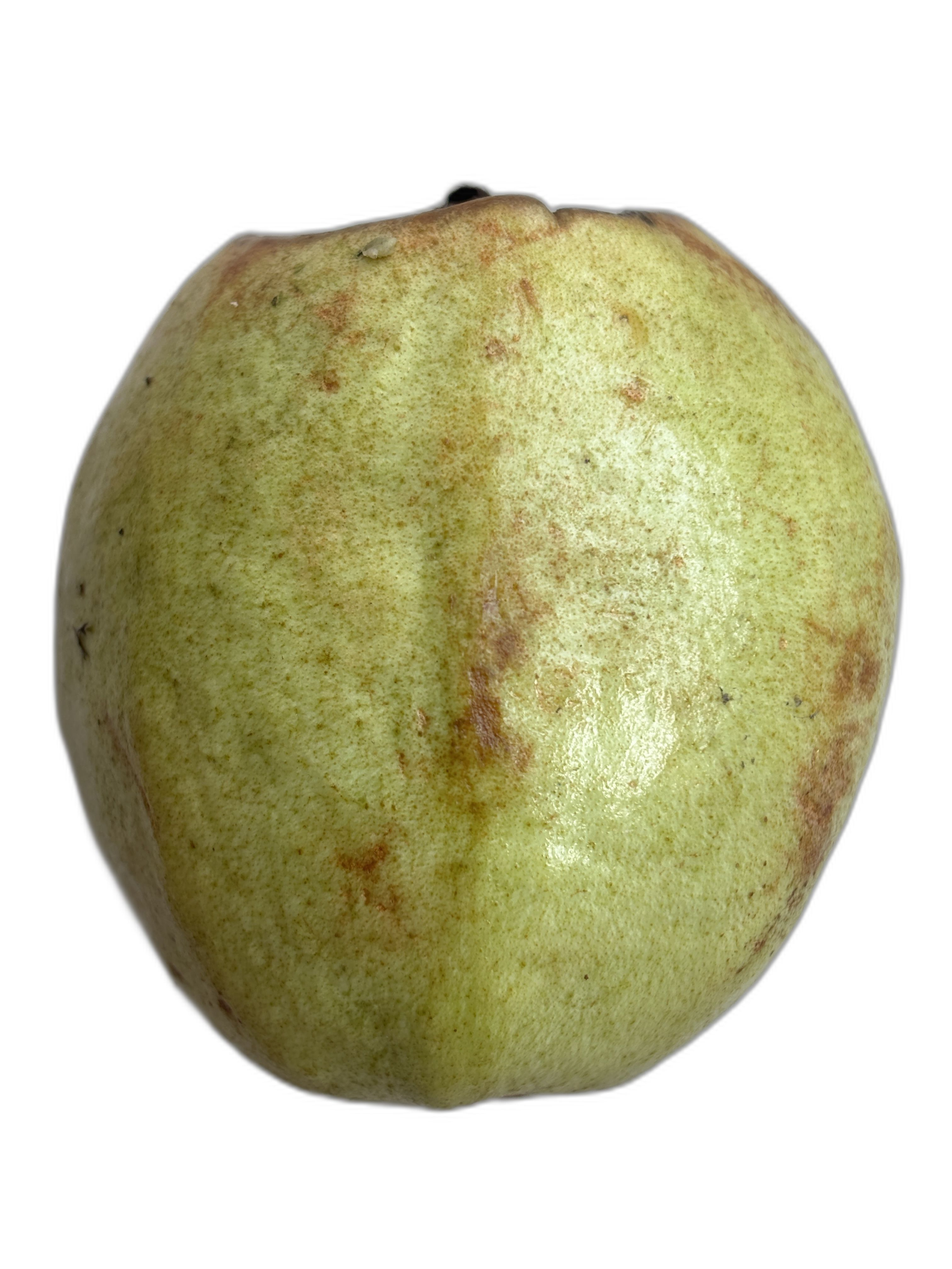guava: (34, 159, 799, 978)
